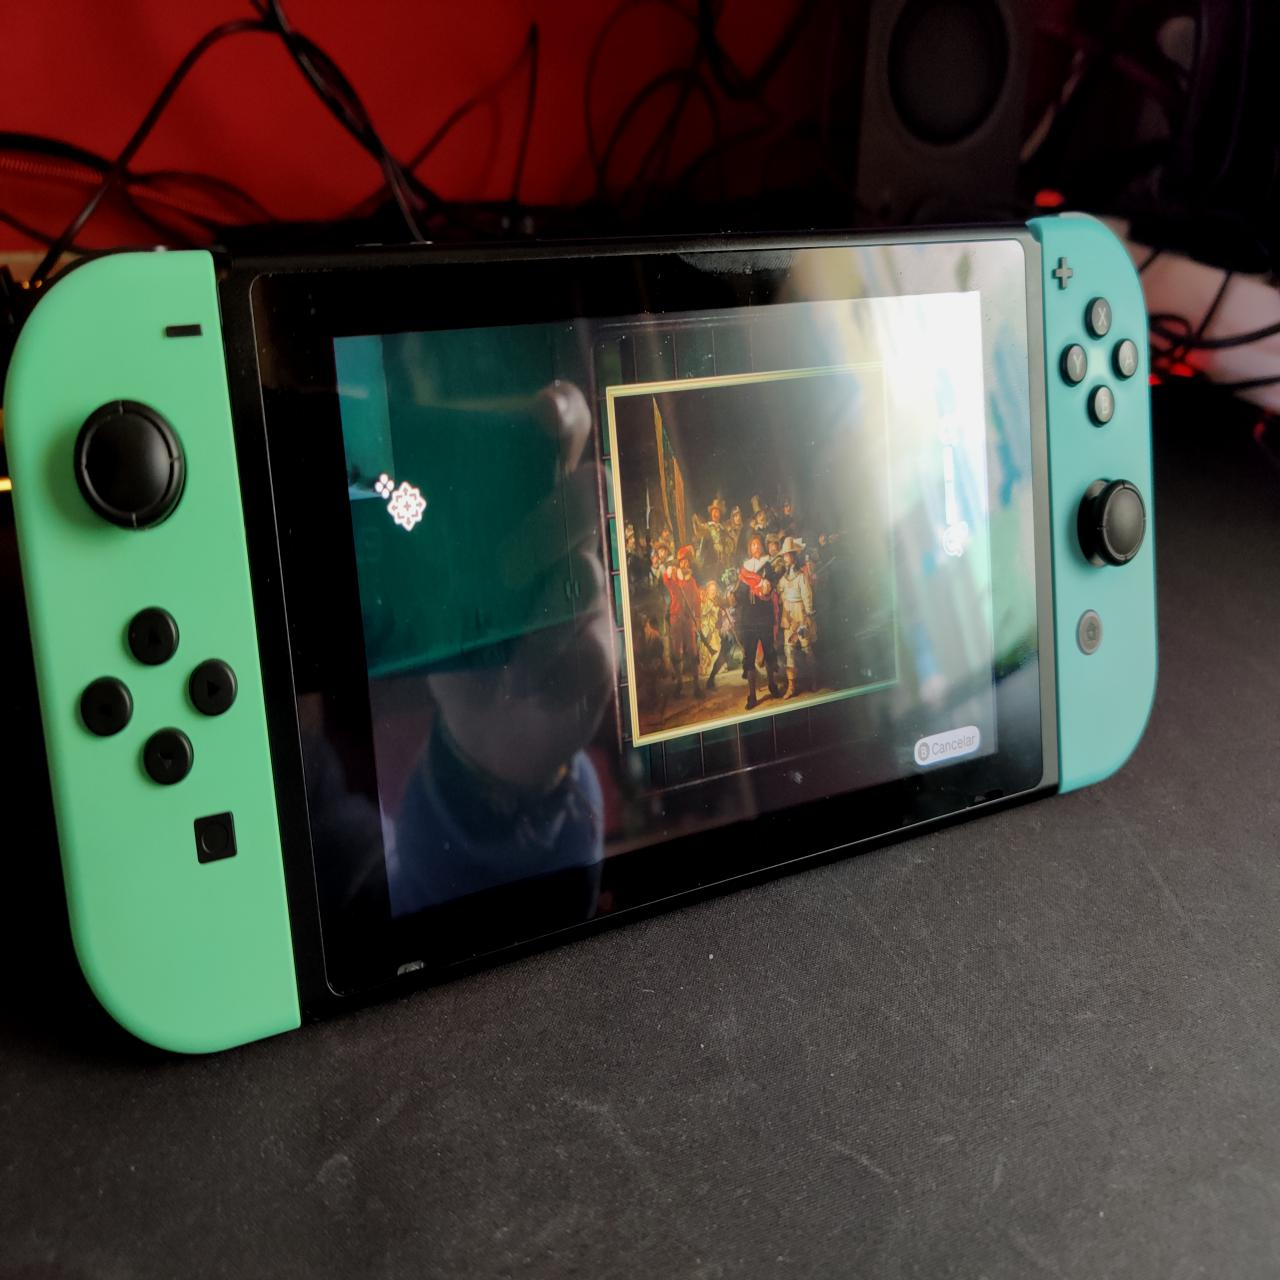NightWatchFake: (622, 377, 912, 717)
